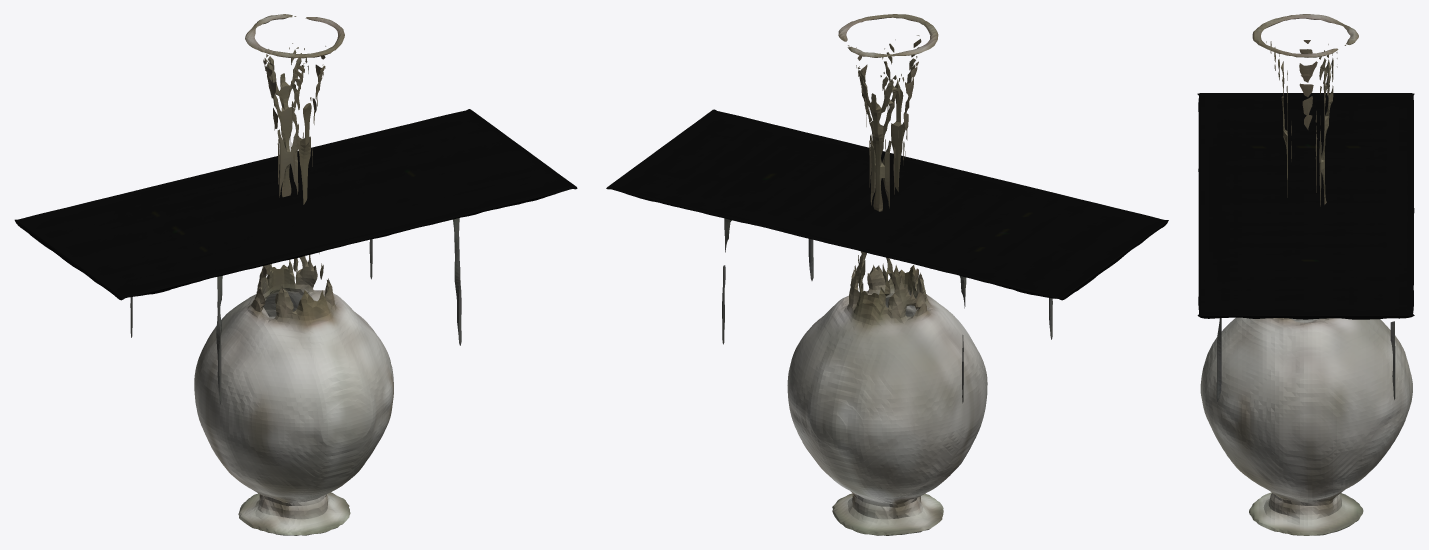
Rendered from final_colored_chair_model.glb.
3 views of the same model, side by side, from view 1: azimuth 30°, elevation 25°; view 2: azimuth 150°, elevation 25°; view 3: azimuth 270°, elevation 25° (orthographic).
Parts seen in each view (by area): view 1: tmp_jgoeajt.ply, tmp1kes9guv.ply; view 2: tmp_jgoeajt.ply, tmp1kes9guv.ply; view 3: tmp_jgoeajt.ply, tmp1kes9guv.ply.
Boxes of the visible parts, box(x1,y1,x2,y2) form: tmp_jgoeajt.ply: box(14, 109, 577, 404); tmp1kes9guv.ply: box(194, 14, 393, 535); tmp_jgoeajt.ply: box(606, 109, 1168, 403); tmp1kes9guv.ply: box(787, 14, 987, 535); tmp_jgoeajt.ply: box(1197, 93, 1414, 401); tmp1kes9guv.ply: box(1200, 14, 1412, 535).
Size of the model in its own units: 1.98 by 1.98 by 0.8164.
